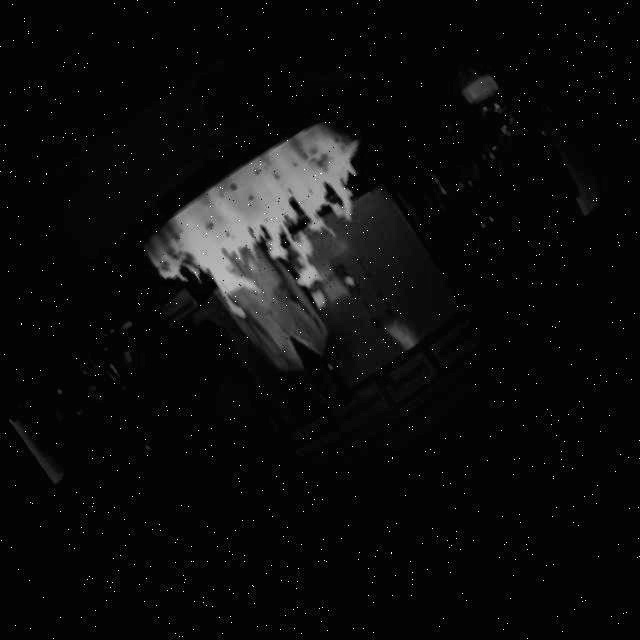Fire: (142, 112, 412, 346)
